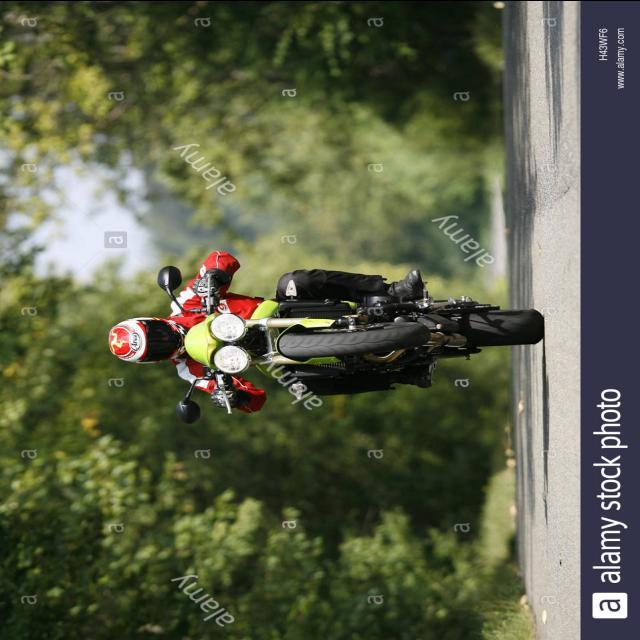motorcycle: (106, 248, 548, 416)
